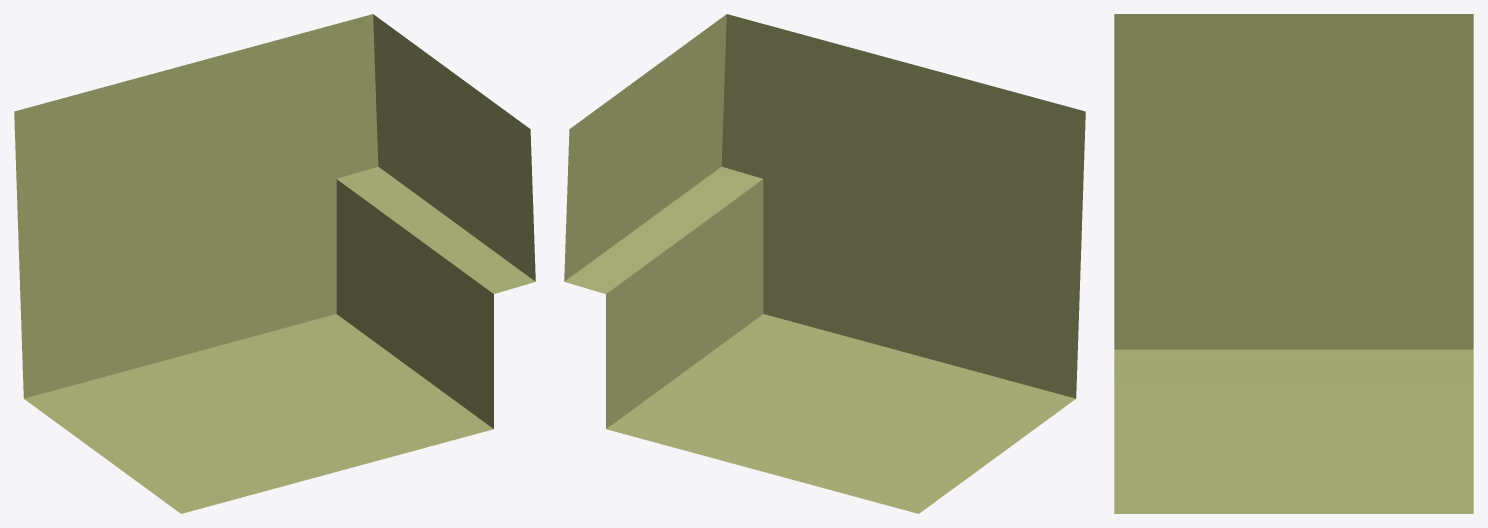
3 views of the same model, side by side, from view 1: azimuth 30°, elevation 25°; view 2: azimuth 150°, elevation 25°; view 3: azimuth 270°, elevation 25° (orthographic). The views are drawn at different scales.
Visible parts, largest first — view 1: 0_1_1_3_3_1_3_1_1_1_2; view 2: 0_1_1_3_3_1_3_1_1_1_2; view 3: 0_1_1_3_3_1_3_1_1_1_2.
Boxes of the visible parts, left/top/right/bottom form: 0_1_1_3_3_1_3_1_1_1_2: left=14, top=14, right=535, bottom=513; 0_1_1_3_3_1_3_1_1_1_2: left=564, top=14, right=1085, bottom=513; 0_1_1_3_3_1_3_1_1_1_2: left=1114, top=14, right=1473, bottom=513.
Size of the model in its own units: 8.01 by 6.3 by 6.
